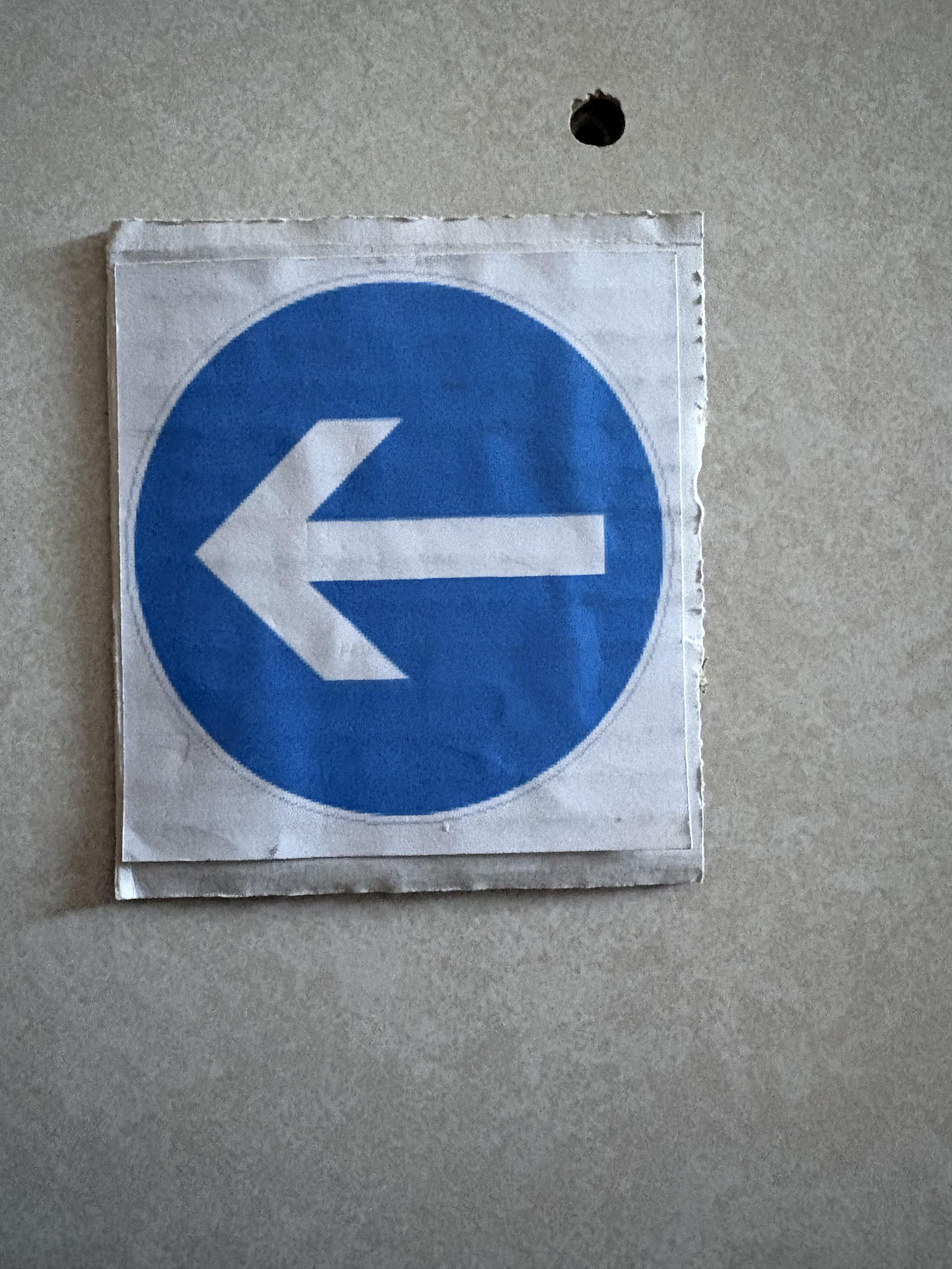Proceed Left: (107, 230, 712, 885)
